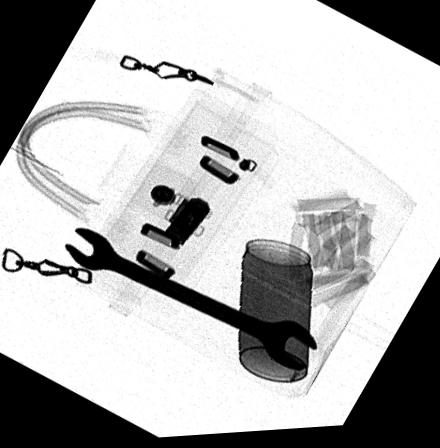Wrench: (63, 227, 317, 376)
